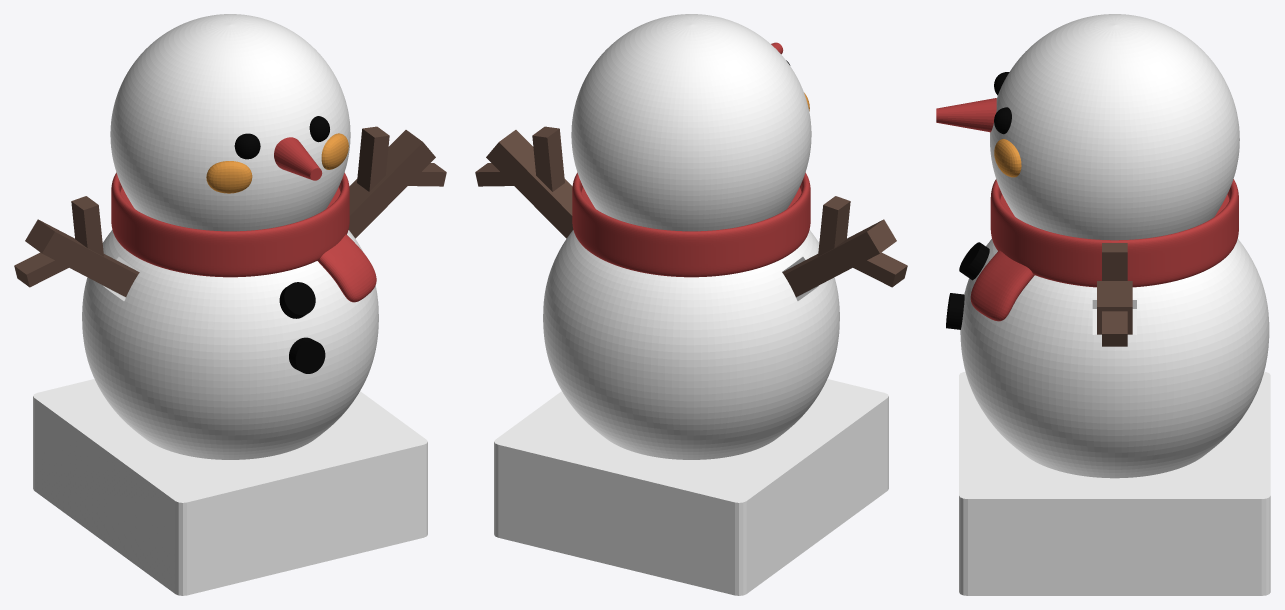
File: cap_snow_w.glb
The picture shows the model from 3 angles, left to right: view 1: azimuth 30°, elevation 25°; view 2: azimuth 150°, elevation 25°; view 3: azimuth 270°, elevation 25°; orthographic projection. The views are drawn at different scales.
Visible parts, largest first — view 1: Cube.079, Sphere.002, Sphere.003, Circle.034, Plane.057, Plane.058, Circle.039, Cylinder.001, Cube.196, Plane.059, Cylinder, Cube.184; view 2: Cube.079, Sphere.002, Sphere.003, Circle.034, Plane.057, Plane.058, Plane.059; view 3: Sphere.002, Cube.079, Sphere.003, Circle.034, Circle.039, Cylinder, Plane.057, Cylinder.001, Plane.058, Plane.059, Cube.196, Cube.184.
Boxes of the visible parts, x1,y1,x2,y2 form: Cube.079: (33, 379, 427, 595); Sphere.002: (82, 230, 378, 459); Sphere.003: (110, 14, 350, 231); Circle.034: (111, 172, 349, 277); Plane.057: (25, 130, 435, 296); Plane.058: (71, 126, 389, 256); Circle.039: (317, 234, 376, 302); Cylinder.001: (279, 282, 325, 373); Cube.196: (206, 133, 348, 193); Plane.059: (14, 163, 446, 287); Cylinder: (274, 137, 322, 180); Cube.184: (234, 116, 329, 159); Cube.079: (494, 379, 888, 595); Sphere.002: (543, 230, 839, 459); Sphere.003: (571, 14, 811, 231); Circle.034: (572, 172, 810, 277); Plane.057: (486, 130, 896, 296); Plane.058: (532, 126, 850, 256); Plane.059: (475, 163, 907, 287); Sphere.002: (960, 238, 1269, 478); Cube.079: (959, 371, 1270, 595); Sphere.003: (990, 14, 1239, 240); Circle.034: (990, 179, 1238, 287); Circle.039: (970, 250, 1034, 321); Cylinder: (936, 98, 996, 132); Plane.057: (1097, 281, 1132, 334); Cylinder.001: (946, 242, 989, 329); Plane.058: (1102, 243, 1127, 280); Plane.059: (1102, 311, 1127, 346); Cube.196: (994, 139, 1021, 177); Cube.184: (994, 72, 1011, 134).
Bounding box in the file's own units: 28.36 × 31.41 × 18.78.
